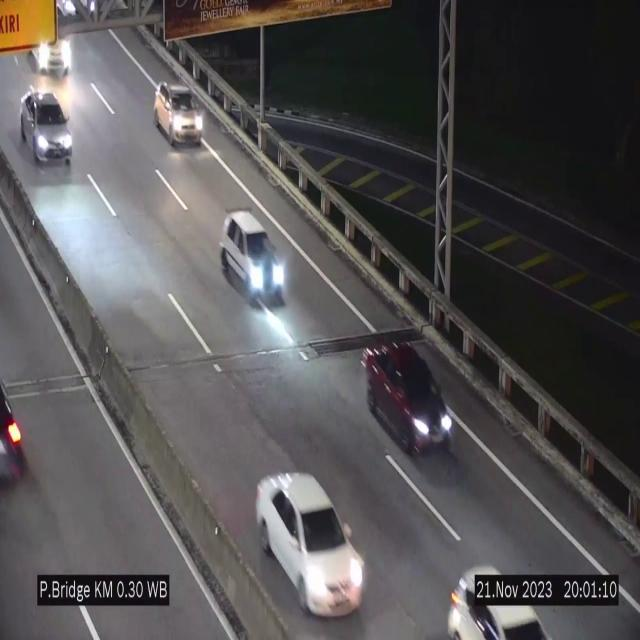Car: (256, 473, 364, 615), (365, 340, 457, 460), (441, 552, 549, 640), (221, 212, 287, 304), (20, 84, 73, 164), (154, 81, 202, 146)
